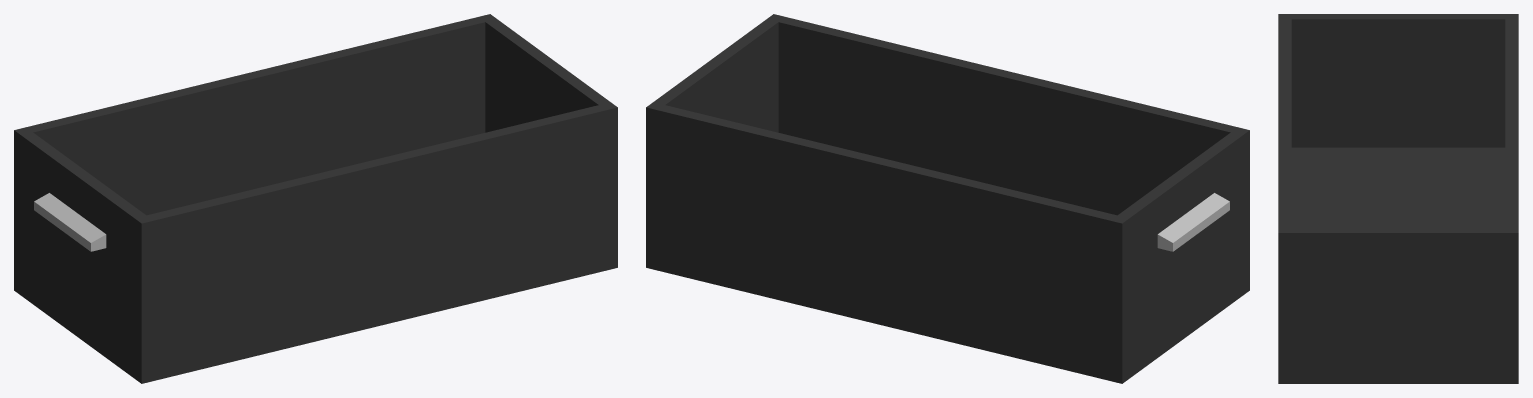
File: LøsSkuffe_1.fbx
3 renders of one model, left to right at view 1: azimuth 30°, elevation 25°; view 2: azimuth 150°, elevation 25°; view 3: azimuth 270°, elevation 25°, orthographic. The views are drawn at different scales.
Visible parts, largest first — view 1: Løs skuffe_1; view 2: Løs skuffe_1; view 3: Løs skuffe_1.
Part boxes in pixels (x1=…): Løs skuffe_1: x1=14, y1=14, x2=617, y2=383; Løs skuffe_1: x1=646, y1=14, x2=1249, y2=383; Løs skuffe_1: x1=1278, y1=14, x2=1518, y2=383.
Size of the model in its own units: 139 by 43.25 by 62.37.
